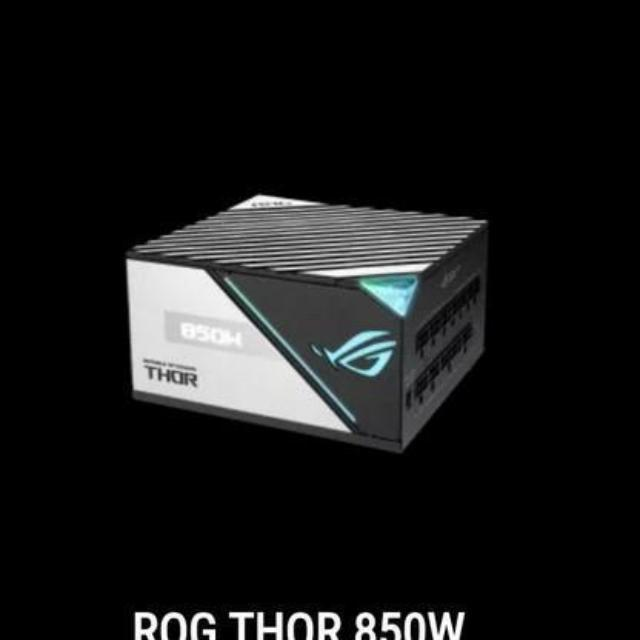PSU: (111, 178, 502, 470)
